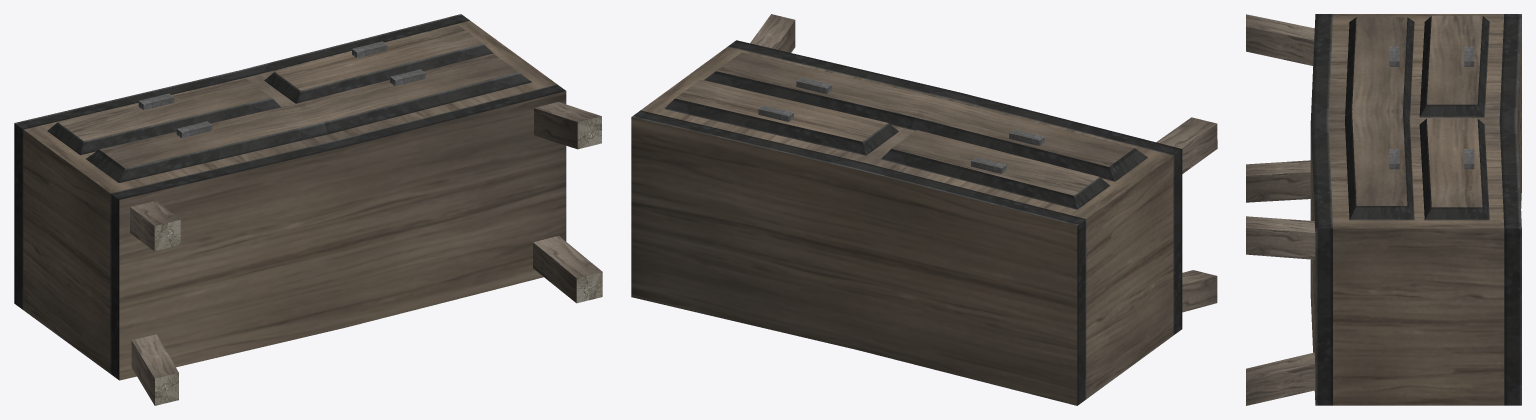
File: Dresser_A.fbx
The picture shows the model from 3 angles, left to right: view 1: azimuth 30°, elevation 25°; view 2: azimuth 150°, elevation 25°; view 3: azimuth 270°, elevation 25°; orthographic projection.
Visible parts, largest first — view 1: Dresser_A; view 2: Dresser_A; view 3: Dresser_A.
Boxes of the visible parts, x1,y1,x2,y2 form: Dresser_A: [14, 14, 602, 405]; Dresser_A: [631, 14, 1217, 405]; Dresser_A: [1246, 14, 1521, 405].
Bounding box in the file's own units: 3.01 × 1.26 × 1.63.
